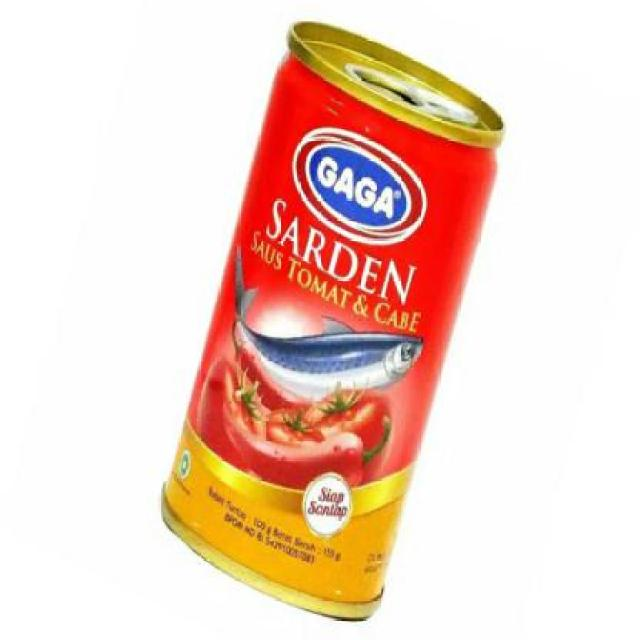Metal: (158, 20, 506, 623)
